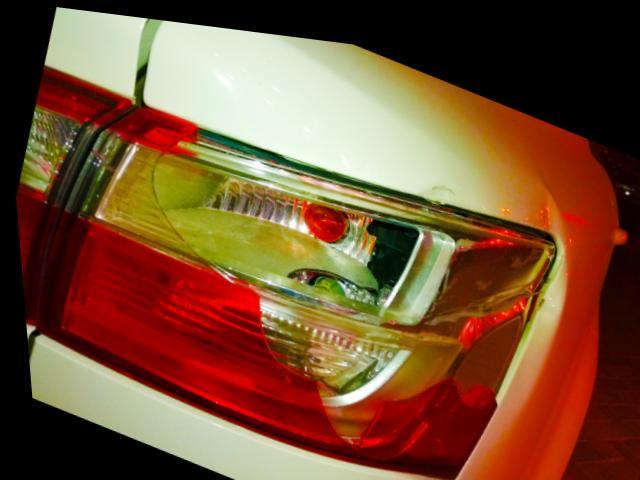dislocated part: (115, 14, 174, 101)
lamp broken: (32, 100, 553, 470)
